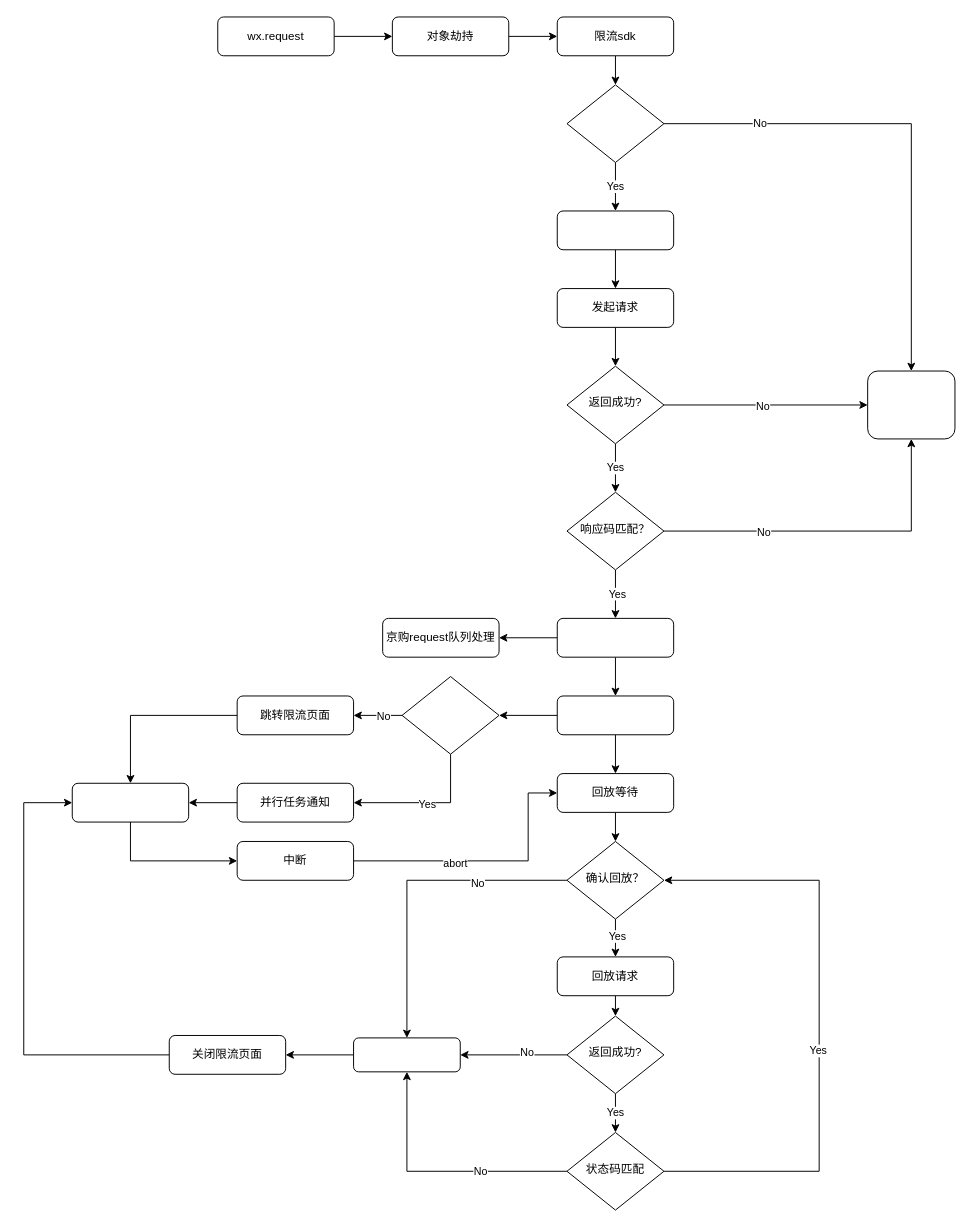
The diagram is 972 pixels wide and 1227 high, and some of its shapes have lost their labels. The centre of each missing label's shape, as x and y in pixels:
"url匹配?" goes at (x=615, y=123).
"响应链初始化" goes at (x=615, y=715).
"回调代理" goes at (x=615, y=230).
"结束通知" goes at (x=406, y=1054).
"跳出" goes at (x=911, y=404).
"阻塞通知" goes at (x=615, y=637).
"限流页 是否已开启？" goes at (x=450, y=715).
"限流页面" goes at (x=130, y=802).
